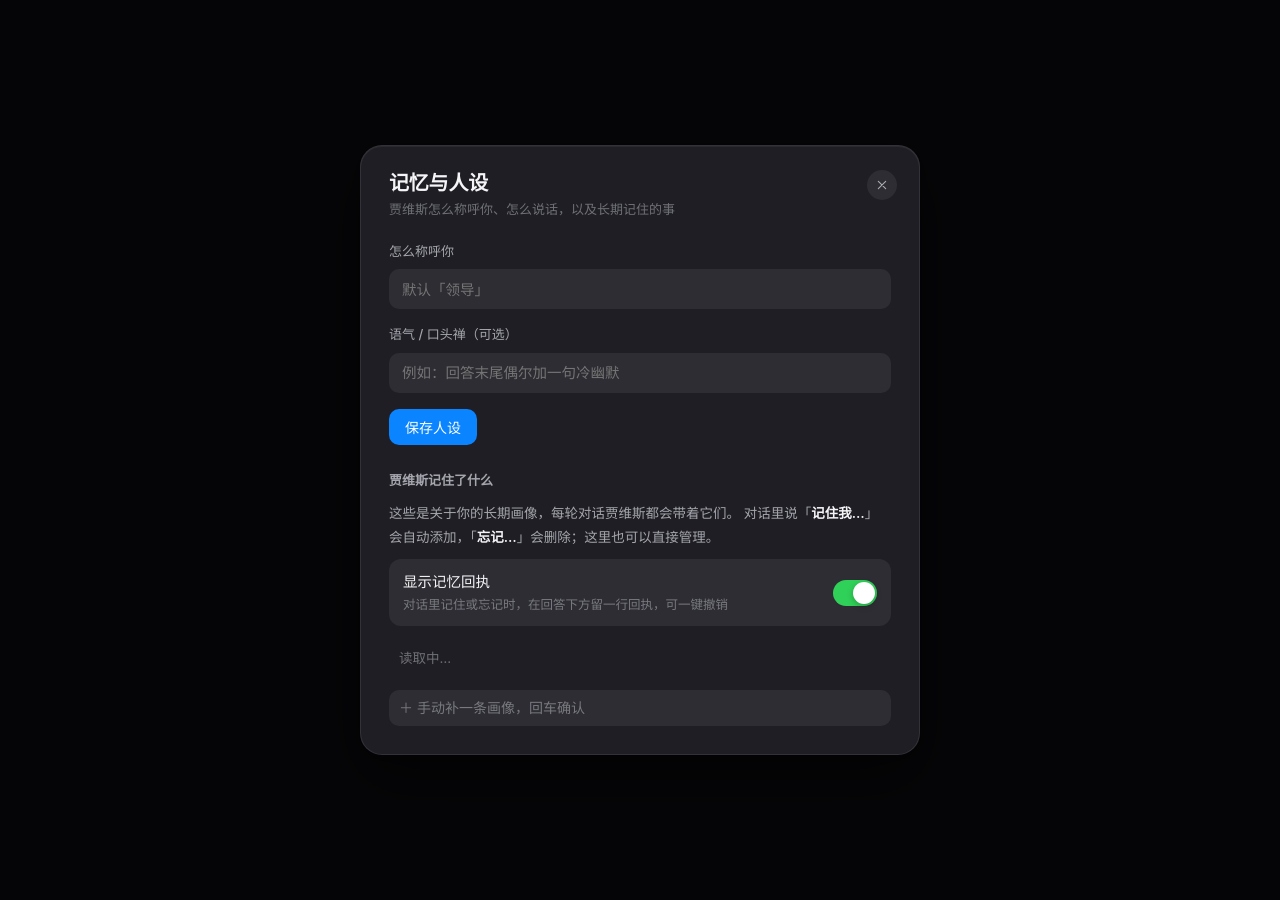
Scenario: 记忆面板：回执开关与昨晚新增 › 保存失败回滚并说明
Click the switch labelled "显示记忆回执 对话里记住或忘记时，在回答下方留一行回执，可一键撤销".
click(855, 593)  # box [833,580,877,606]
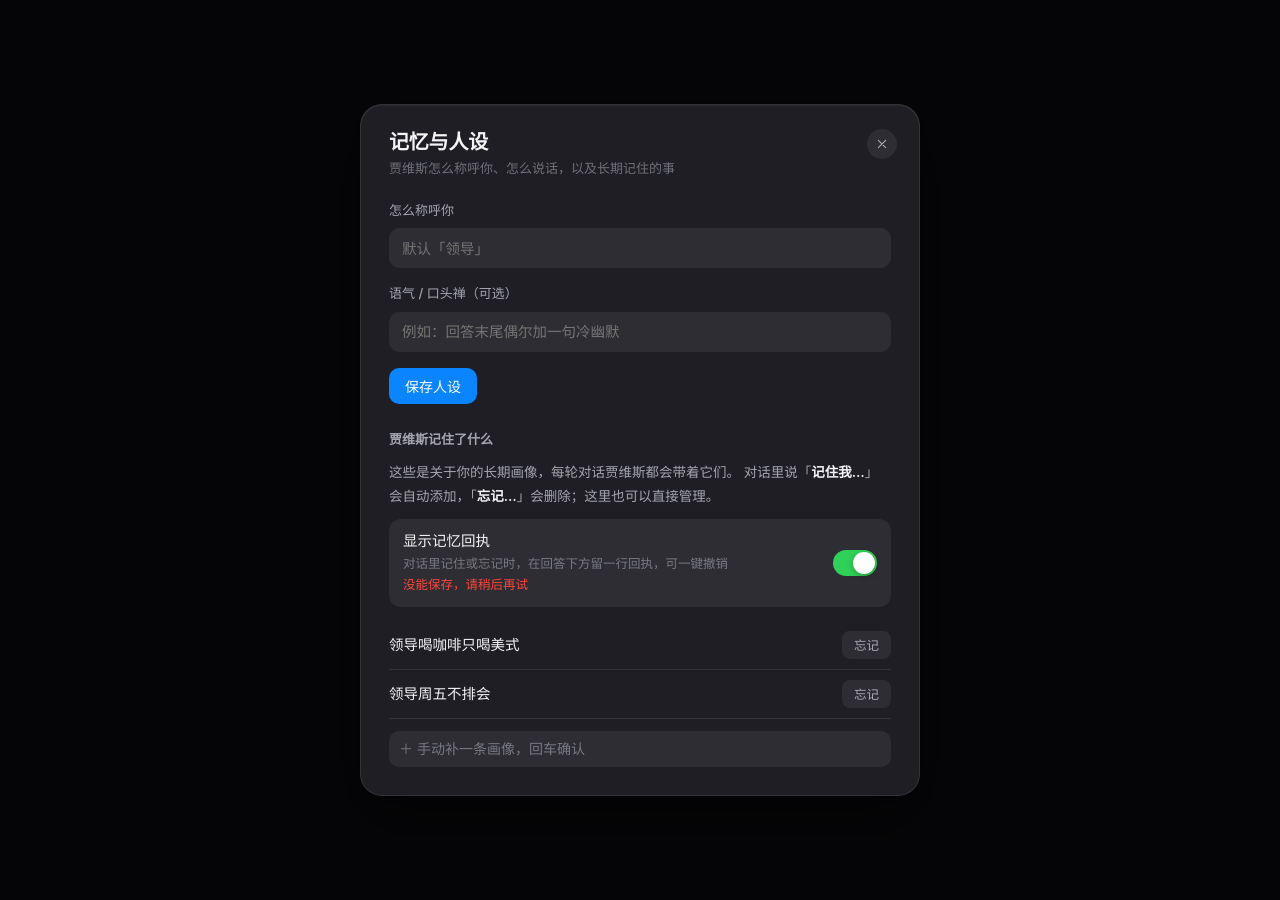
Expected: the switch labelled "显示记忆回执 对话里记住或忘记时，在回答下方留一行回执，可一键撤销 没能保存，请稍后再试" is checked, [833,550,877,576]
Now the message shows "没能保存", box [403,577,528,592]
